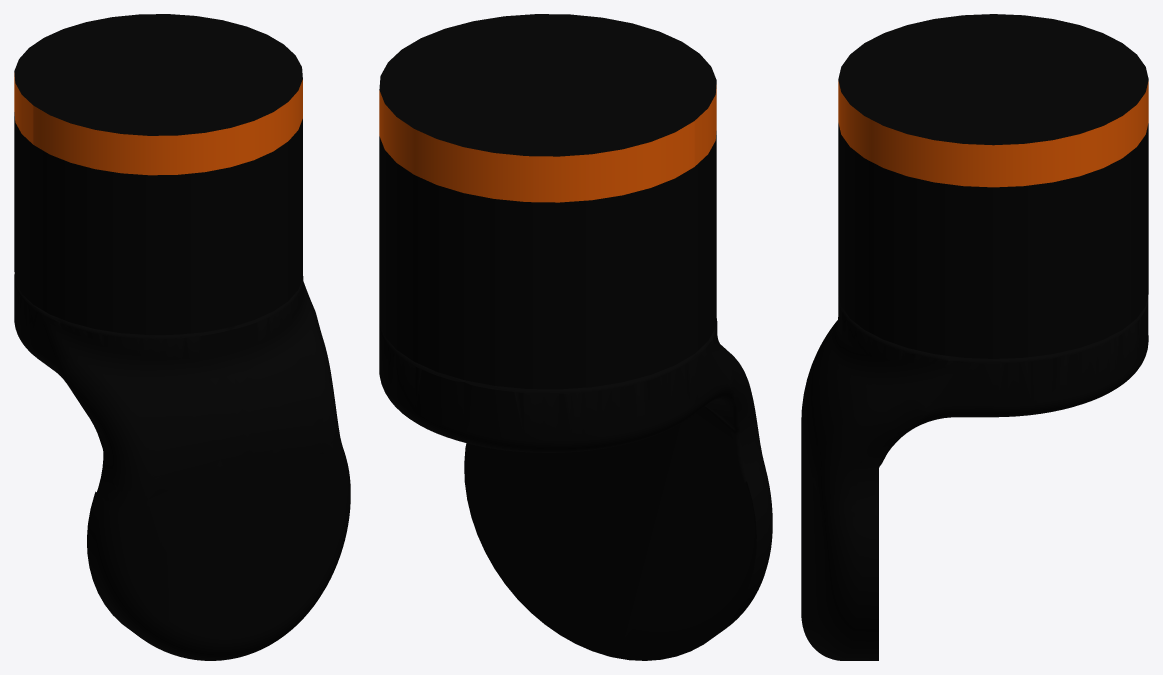
The model's file is Joint5.dae.
The picture shows the model from 3 angles, left to right: view 1: azimuth 30°, elevation 25°; view 2: azimuth 150°, elevation 25°; view 3: azimuth 270°, elevation 25°; orthographic projection. The views are drawn at different scales.
Visible parts, largest first — view 1: Object-1; view 2: Object-1; view 3: Object-1.
Part boxes in pixels (x1,y1,x2,y2): Object-1: [14, 14, 350, 660]; Object-1: [379, 14, 772, 660]; Object-1: [801, 14, 1148, 660].
Size of the model in its own units: 0.08 by 0.0895 by 0.1612.
